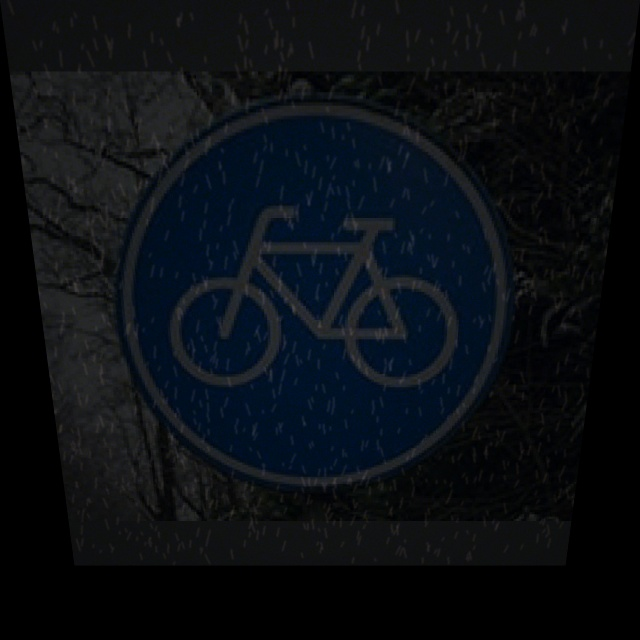Compulsory_Cycle_Track: (106, 107, 532, 469)
